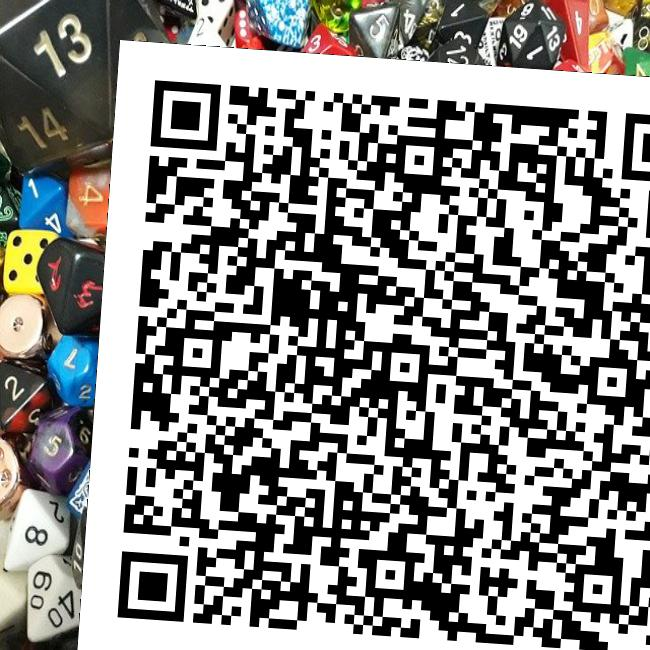qr_code: (77, 59, 649, 630)
